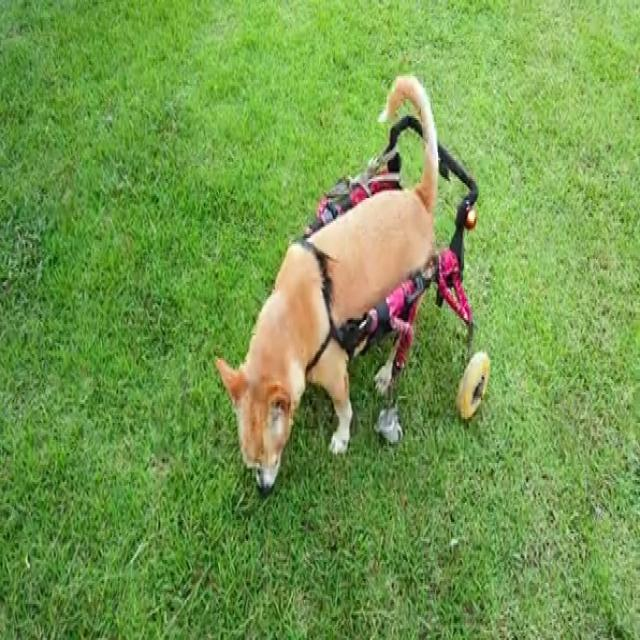injured-animals: (199, 118, 503, 495), (314, 76, 514, 449)
